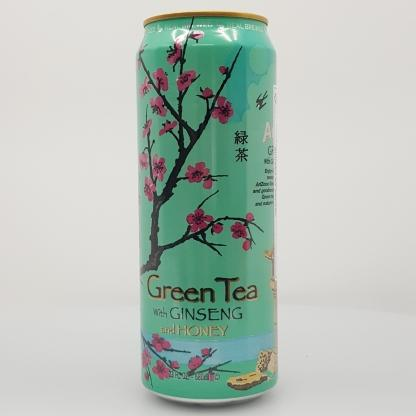-------------------680ML: (136, 11, 277, 407)
